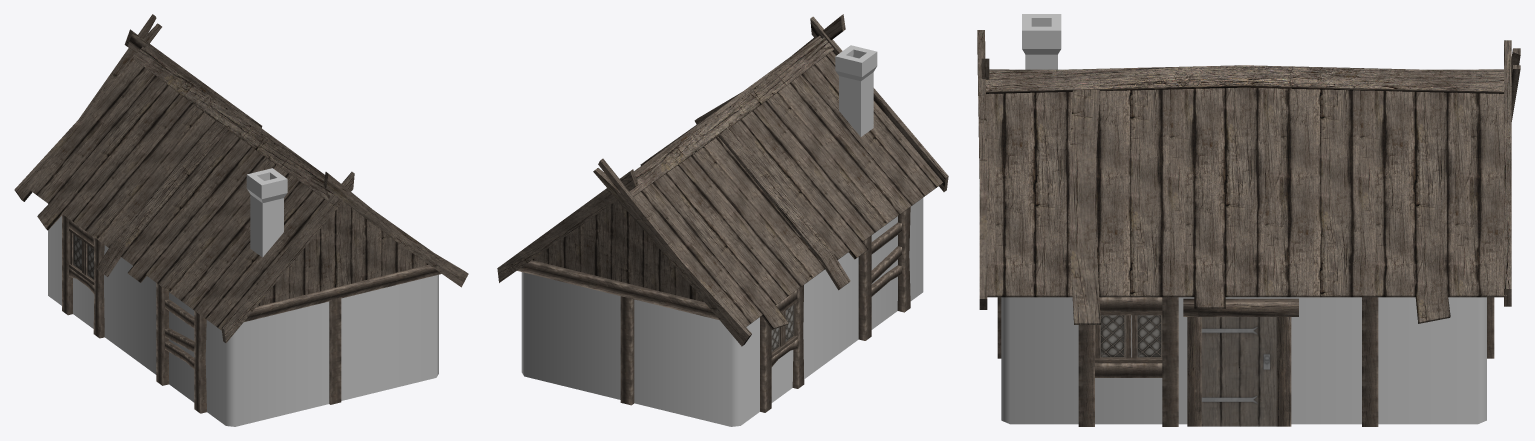
The model's file is Ironworks.fbx.
The picture shows the model from 3 angles, left to right: view 1: azimuth 30°, elevation 25°; view 2: azimuth 150°, elevation 25°; view 3: azimuth 270°, elevation 25°; orthographic projection. The views are drawn at different scales.
Parts seen in each view (by area): view 1: ironworks; view 2: ironworks; view 3: ironworks.
Part boxes in pixels (left/top/right/bottom): ironworks: left=14, top=14, right=468, bottom=426; ironworks: left=497, top=14, right=948, bottom=426; ironworks: left=977, top=14, right=1520, bottom=426.
Bounding box in the file's own units: 499 × 432 × 671.
